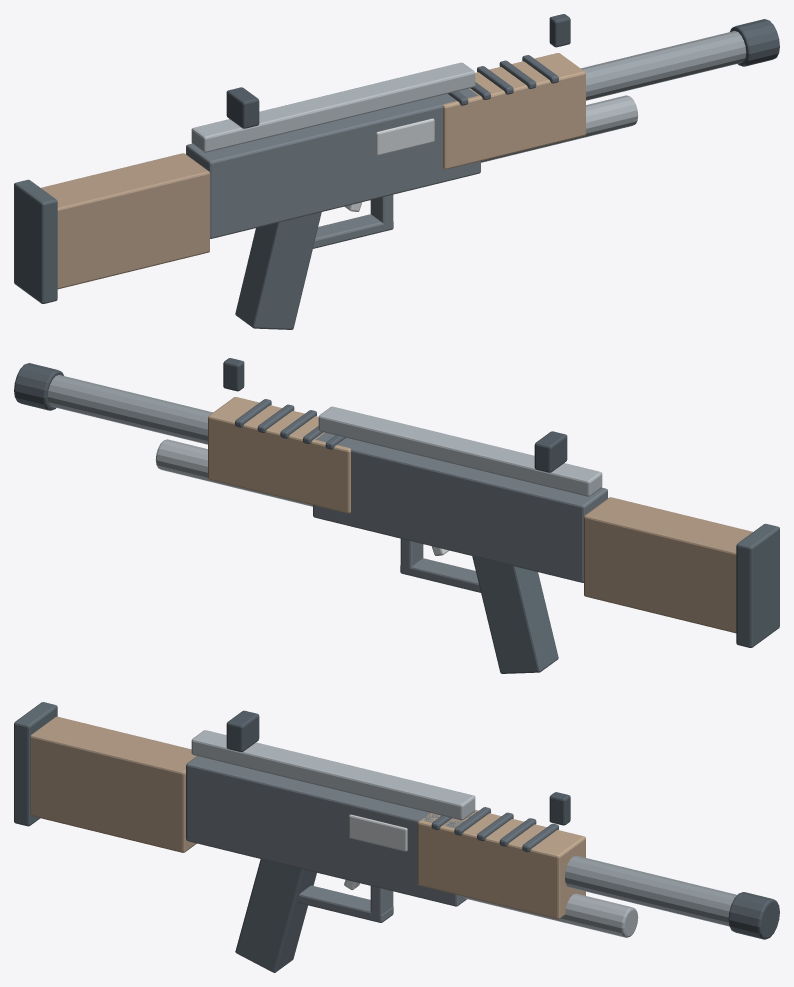
The model's file is shotgun.glb.
3 views of the same model, one above another, from view 1: azimuth 30°, elevation 25°; view 2: azimuth 150°, elevation 25°; view 3: azimuth 330°, elevation 25° (orthographic).
Visible parts, largest first — view 1: shotgun_机匣, shotgun_枪托, shotgun_护木, shotgun_顶导轨, shotgun_握把, shotgun_枪管, shotgun_托底, shotgun_管式弹仓, shotgun_枪口套, shotgun_扳机护圈下, shotgun_抛壳窗, shotgun_照门 (+2 smaller); view 2: shotgun_机匣, shotgun_枪托, shotgun_护木, shotgun_顶导轨, shotgun_握把, shotgun_枪管, shotgun_托底, shotgun_管式弹仓, shotgun_枪口套, shotgun_扳机护圈下, shotgun_照门, shotgun_准星 (+1 smaller); view 3: shotgun_机匣, shotgun_枪托, shotgun_护木, shotgun_顶导轨, shotgun_握把, shotgun_枪管, shotgun_管式弹仓, shotgun_托底, shotgun_枪口套, shotgun_扳机护圈下, shotgun_抛壳窗, shotgun_照门 (+2 smaller).
Part boxes in pixels (<box>): shotgun_机匣: <box>186,88,480,238</box>; shotgun_枪托: <box>41,153,209,289</box>; shotgun_护木: <box>443,53,585,169</box>; shotgun_顶导轨: <box>191,62,475,152</box>; shotgun_握把: <box>235,212,321,329</box>; shotgun_枪管: <box>581,31,746,100</box>; shotgun_托底: <box>14,179,57,303</box>; shotgun_管式弹仓: <box>481,95,638,162</box>; shotgun_枪口套: <box>730,19,779,66</box>; shotgun_扳机护圈下: <box>313,214,393,248</box>; shotgun_抛壳窗: <box>376,118,434,155</box>; shotgun_照门: <box>226,87,259,128</box>; shotgun_机匣: <box>313,432,607,582</box>; shotgun_枪托: <box>584,497,752,633</box>; shotgun_护木: <box>208,397,350,513</box>; shotgun_顶导轨: <box>318,406,602,496</box>; shotgun_握把: <box>472,556,558,673</box>; shotgun_枪管: <box>47,375,212,444</box>; shotgun_托底: <box>736,523,779,647</box>; shotgun_管式弹仓: <box>155,439,312,506</box>; shotgun_枪口套: <box>14,363,63,410</box>; shotgun_扳机护圈下: <box>400,558,480,592</box>; shotgun_照门: <box>534,431,567,472</box>; shotgun_准星: <box>223,358,244,391</box>; shotgun_机匣: <box>186,756,476,906</box>; shotgun_枪托: <box>30,716,196,852</box>; shotgun_护木: <box>417,810,585,919</box>; shotgun_顶导轨: <box>191,730,475,820</box>; shotgun_握把: <box>235,859,316,972</box>; shotgun_枪管: <box>564,855,736,926</box>; shotgun_管式弹仓: <box>463,893,638,937</box>; shotgun_托底: <box>14,702,57,826</box>; shotgun_枪口套: <box>728,892,779,939</box>; shotgun_扳机护圈下: <box>297,885,393,922</box>; shotgun_抛壳窗: <box>349,814,407,851</box>; shotgun_照门: <box>226,710,259,751</box>.
Bounding box in the file's own units: 1.15 × 0.3526 × 0.082.
